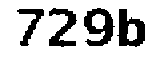2: (45, 4, 79, 51)
7: (11, 5, 45, 51)
9: (80, 3, 115, 51)
b: (117, 6, 149, 50)
